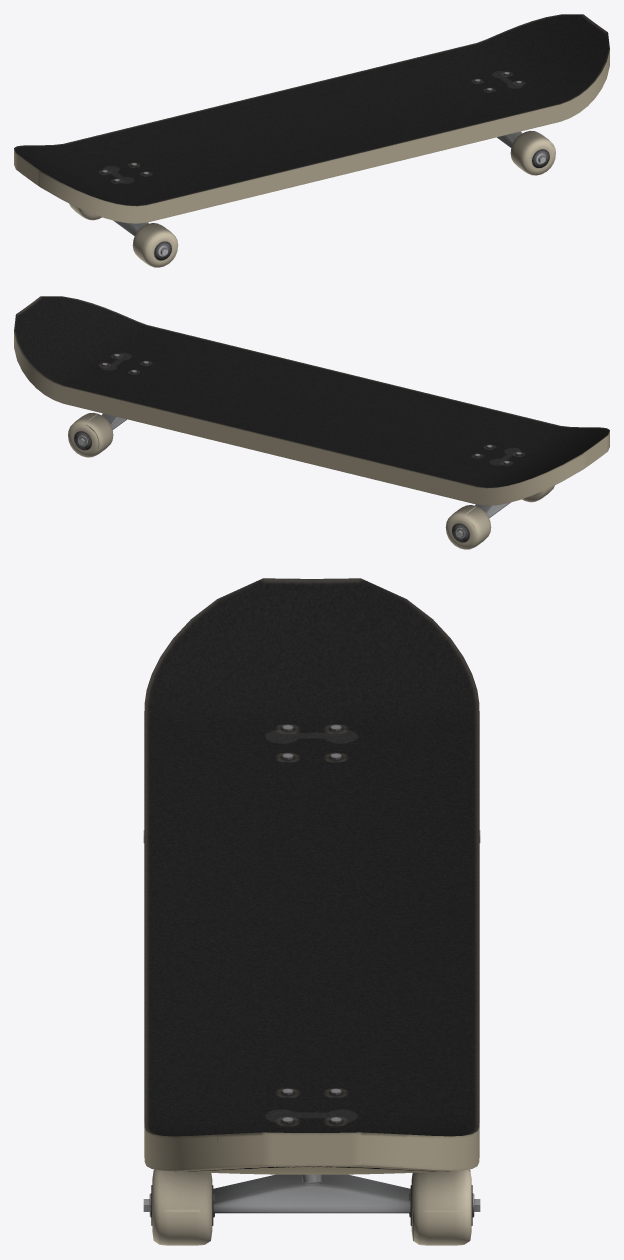
File: SkateboardBone.fbx
3 views of the same model, one above another, from view 1: azimuth 30°, elevation 25°; view 2: azimuth 150°, elevation 25°; view 3: azimuth 270°, elevation 25° (orthographic). The views are drawn at different scales.
Parts seen in each view (by area): view 1: SkateboardBone_Main, SkateboardBone_WheelBR, SkateboardBone_WheelFR; view 2: SkateboardBone_Main, SkateboardBone_WheelBL, SkateboardBone_WheelFL; view 3: SkateboardBone_Main, SkateboardBone_TruckF, SkateboardBone_WheelFL, SkateboardBone_WheelFR.
Boxes of the visible parts, <box> form: SkateboardBone_Main: <box>14,14,609,223</box>; SkateboardBone_WheelBR: <box>132,223,178,267</box>; SkateboardBone_WheelFR: <box>510,130,555,175</box>; SkateboardBone_Main: <box>14,296,609,505</box>; SkateboardBone_WheelBL: <box>445,505,491,549</box>; SkateboardBone_WheelFL: <box>68,412,113,457</box>; SkateboardBone_Main: <box>144,578,479,1174</box>; SkateboardBone_TruckF: <box>213,1174,410,1213</box>; SkateboardBone_WheelFL: <box>409,1169,480,1245</box>; SkateboardBone_WheelFR: <box>143,1169,214,1245</box>.
Bounding box in the file's own units: 544 × 92.43 × 140.
